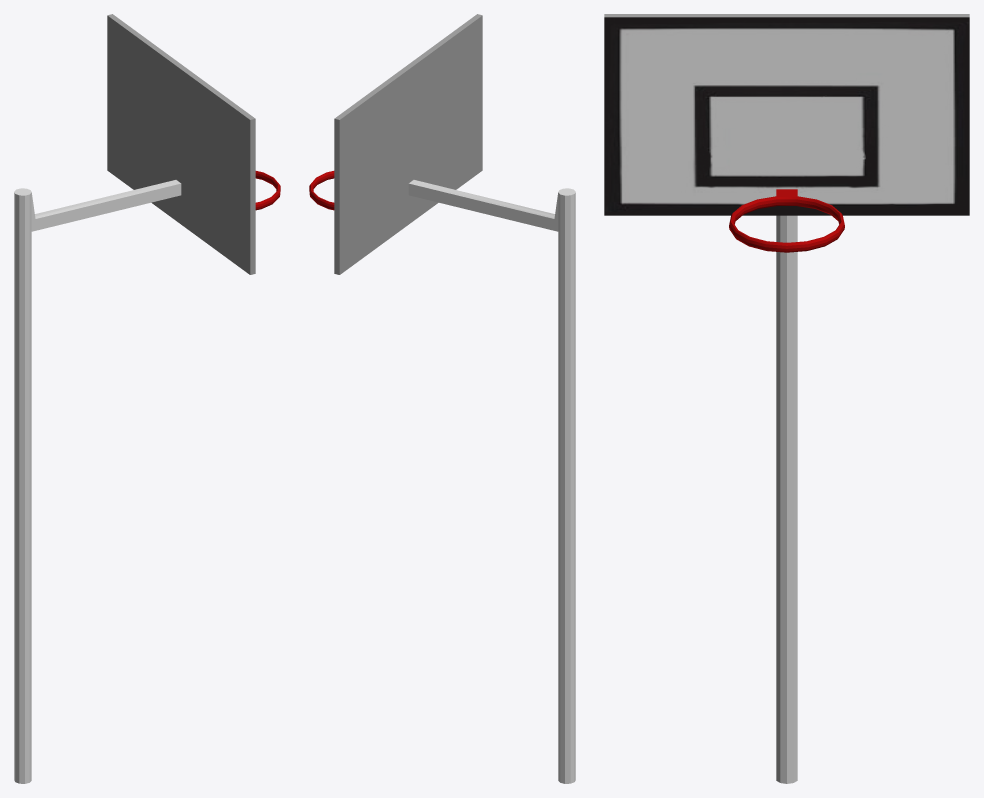
Rendered from Tabela.fbx.
3 renders of one model, left to right at view 1: azimuth 30°, elevation 25°; view 2: azimuth 150°, elevation 25°; view 3: azimuth 270°, elevation 25°, orthographic. The views are drawn at different scales.
Visible parts, largest first — view 1: Tabela, Poste; view 2: Tabela, Poste; view 3: Tabela, Poste, Aro.
Part boxes in pixels (x1,y1,x2,y2): Tabela: (107,14,255,274); Poste: (14,180,181,783); Tabela: (334,14,482,274); Poste: (408,180,575,783); Tabela: (604,14,969,215); Poste: (776,215,797,783); Aro: (729,189,844,252).
Size of the model in its own units: 3.1 by 7.7 by 2.96.
Materials: 4 (1 with a texture image).
